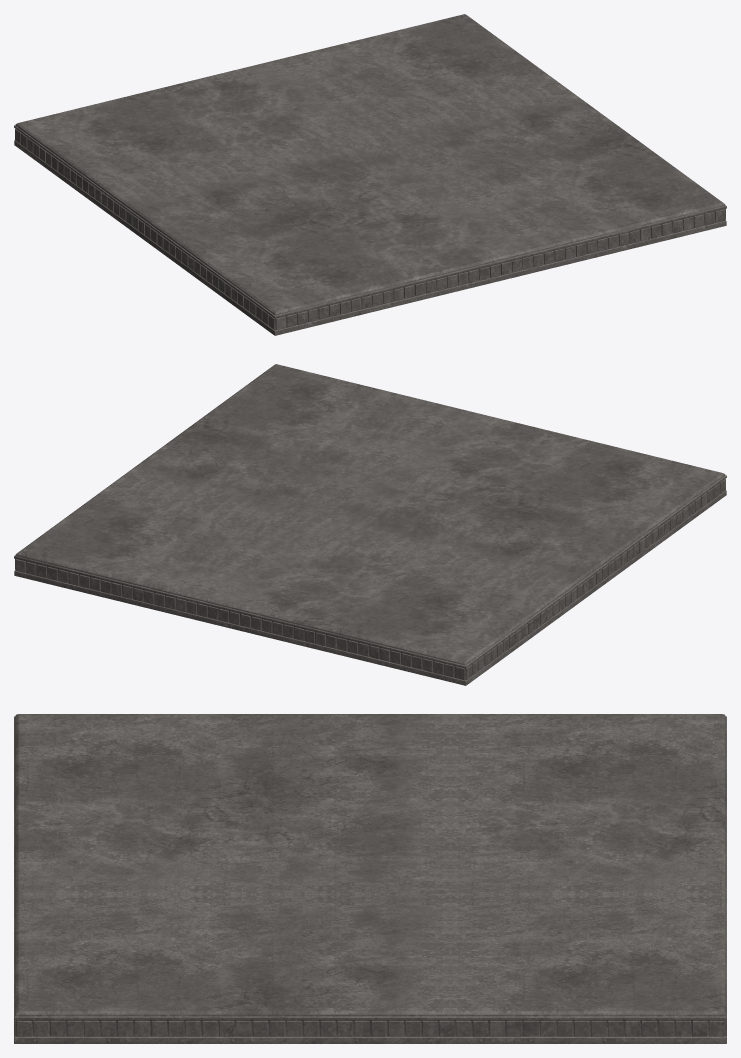
File: SK7 BASE LARGE.fbx
3 views of the same model, one above another, from view 1: azimuth 30°, elevation 25°; view 2: azimuth 150°, elevation 25°; view 3: azimuth 270°, elevation 25° (orthographic). The views are drawn at different scales.
Parts seen in each view (by area): view 1: SK7 BASE LARGE; view 2: SK7 BASE LARGE; view 3: SK7 BASE LARGE.
Part boxes in pixels (bbox=[...]): SK7 BASE LARGE: bbox=[14, 14, 726, 335]; SK7 BASE LARGE: bbox=[14, 364, 726, 685]; SK7 BASE LARGE: bbox=[14, 714, 726, 1043].
Bounding box in the file's own units: 2106 × 100 × 2106.
